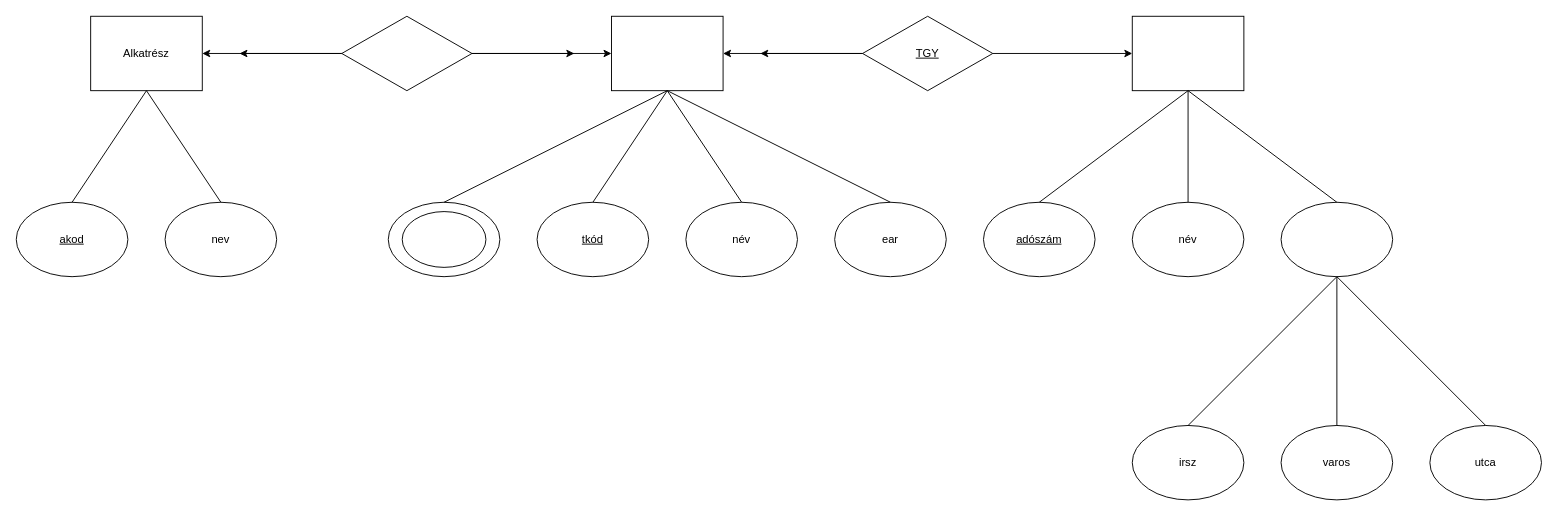
The diagram is 1558 pixels wide and 516 high, and some of its shapes have lost their labels. The box of each missing label's shape, as (x1, y1, x2, y2) in pixels:
(telephely): (1280, 201, 1393, 277)
darabszam: (401, 211, 486, 267)
Gyártó: (1131, 15, 1244, 91)
Termék: (611, 15, 723, 91)
ÁT: (341, 15, 472, 91)
